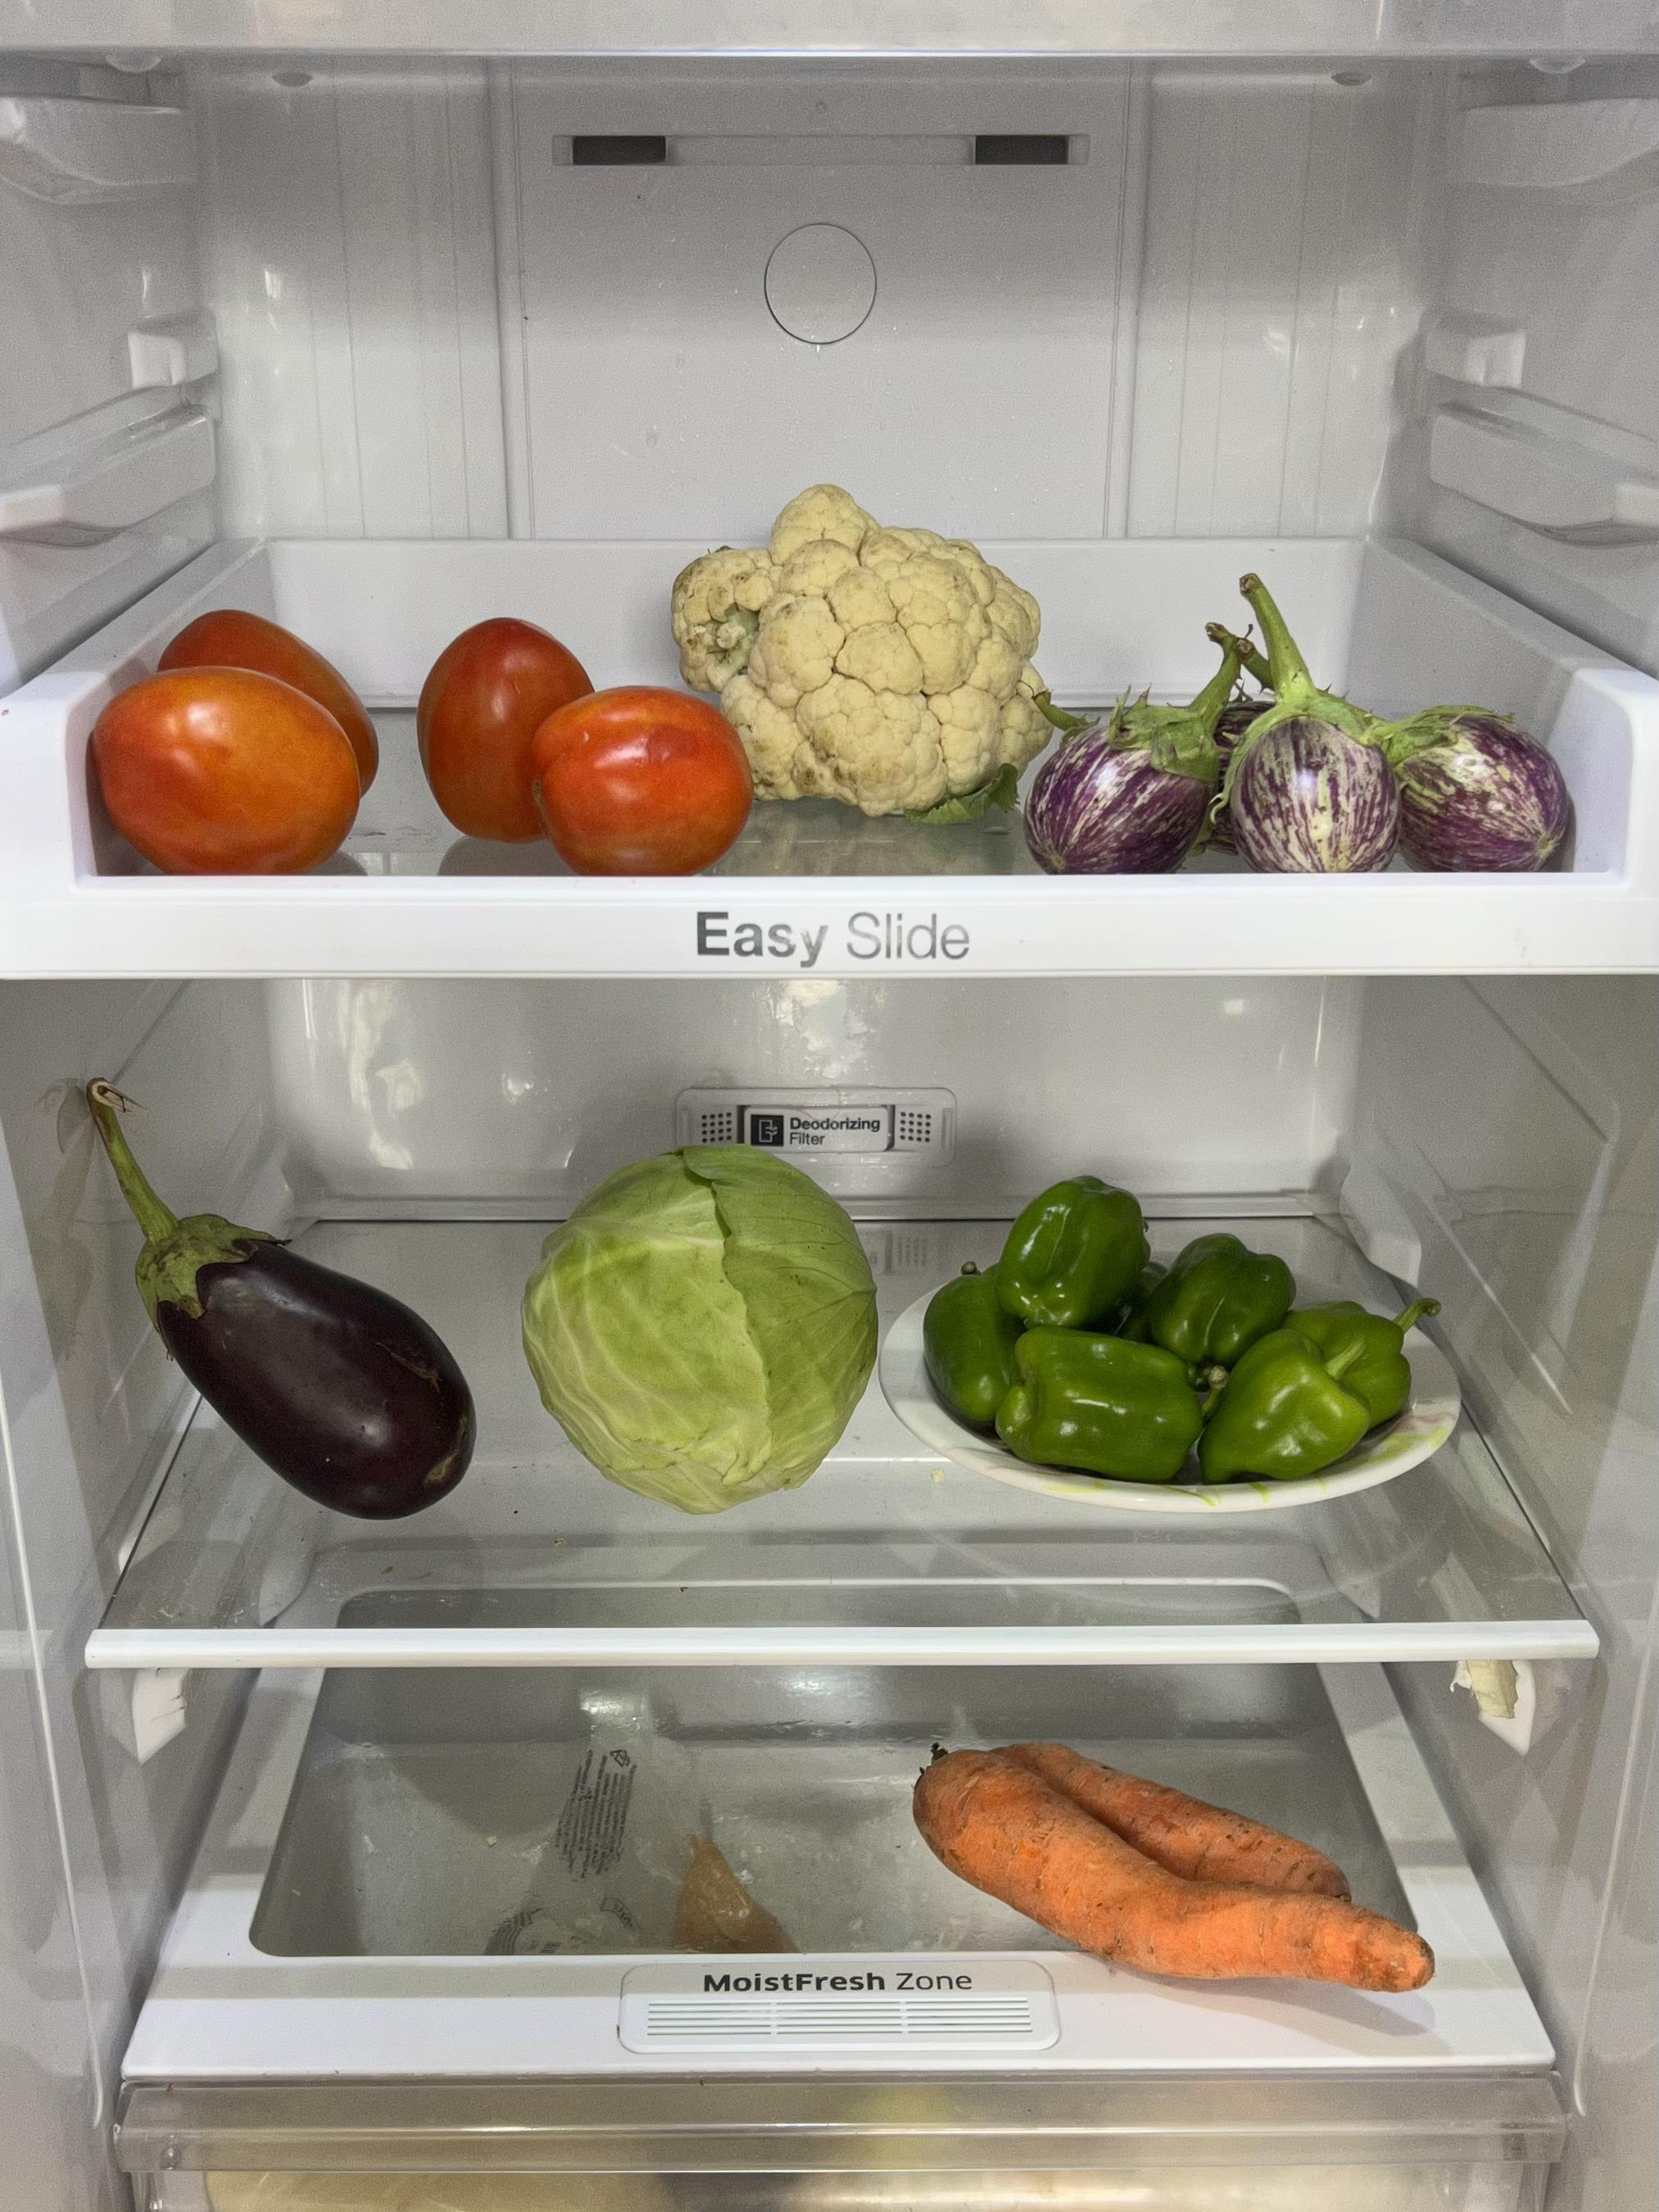bringal: (78, 1083, 472, 1519), (1012, 636, 1584, 874)
cabbage: (526, 1136, 875, 1505)
capsicum: (927, 1177, 1405, 1498)
carrots: (903, 1726, 1443, 2003)
cauliflower: (673, 475, 1047, 803)
tomato: (87, 608, 763, 866)
